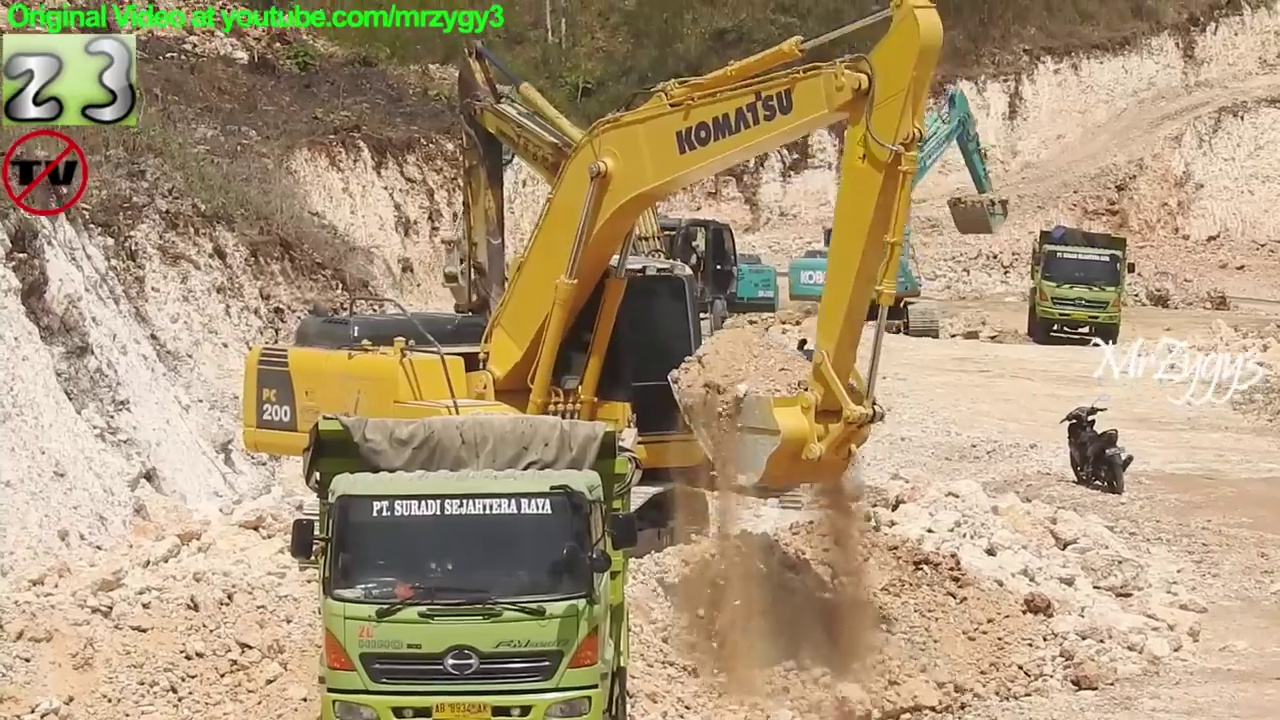excavator: (229, 1, 951, 578), (444, 31, 844, 531), (427, 81, 786, 364), (777, 75, 1013, 351)
truck: (285, 409, 652, 720), (1027, 223, 1140, 350)
